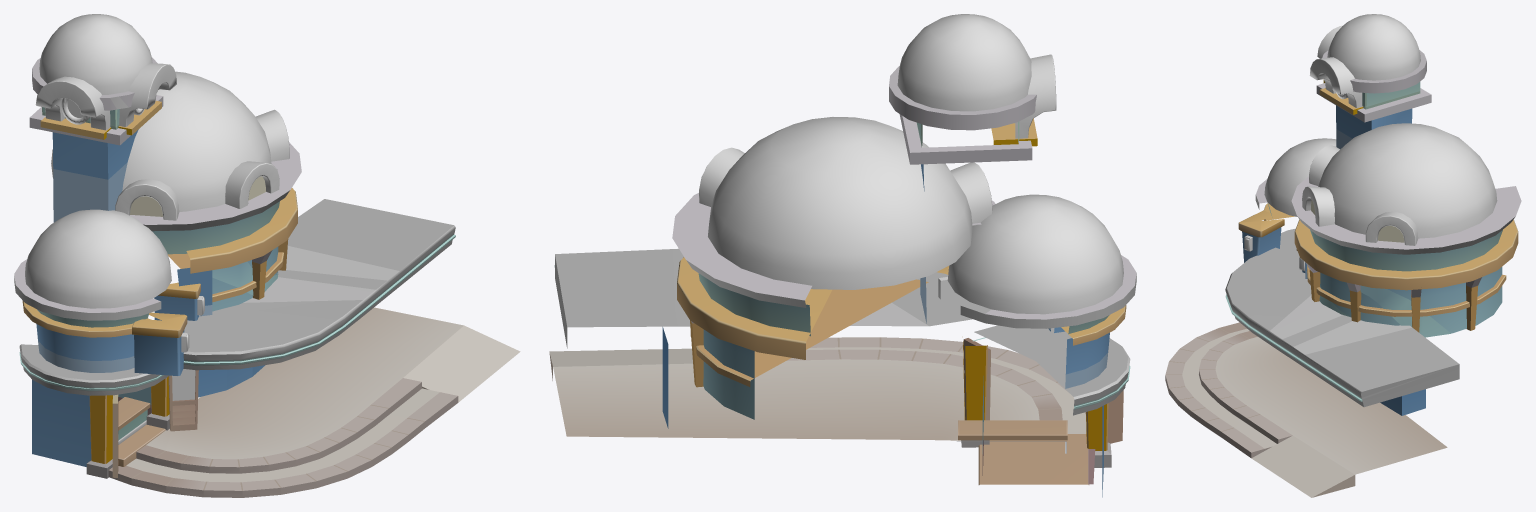
Rendered from IglooTrainStation.glb.
3 renders of one model, left to right at view 1: azimuth 30°, elevation 25°; view 2: azimuth 150°, elevation 25°; view 3: azimuth 270°, elevation 25°, orthographic. The views are drawn at different scales.
Visible parts, largest first — view 1: IglooTrainStation; view 2: IglooTrainStation; view 3: IglooTrainStation.
Part boxes in pixels (x1,y1,x2,y2): IglooTrainStation: (14,14,520,497); IglooTrainStation: (549,14,1136,497); IglooTrainStation: (1165,14,1521,497).
Bounding box in the file's own units: 15.25 × 11.93 × 11.81.
